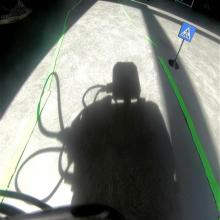crosswalk: (177, 21, 197, 43)
